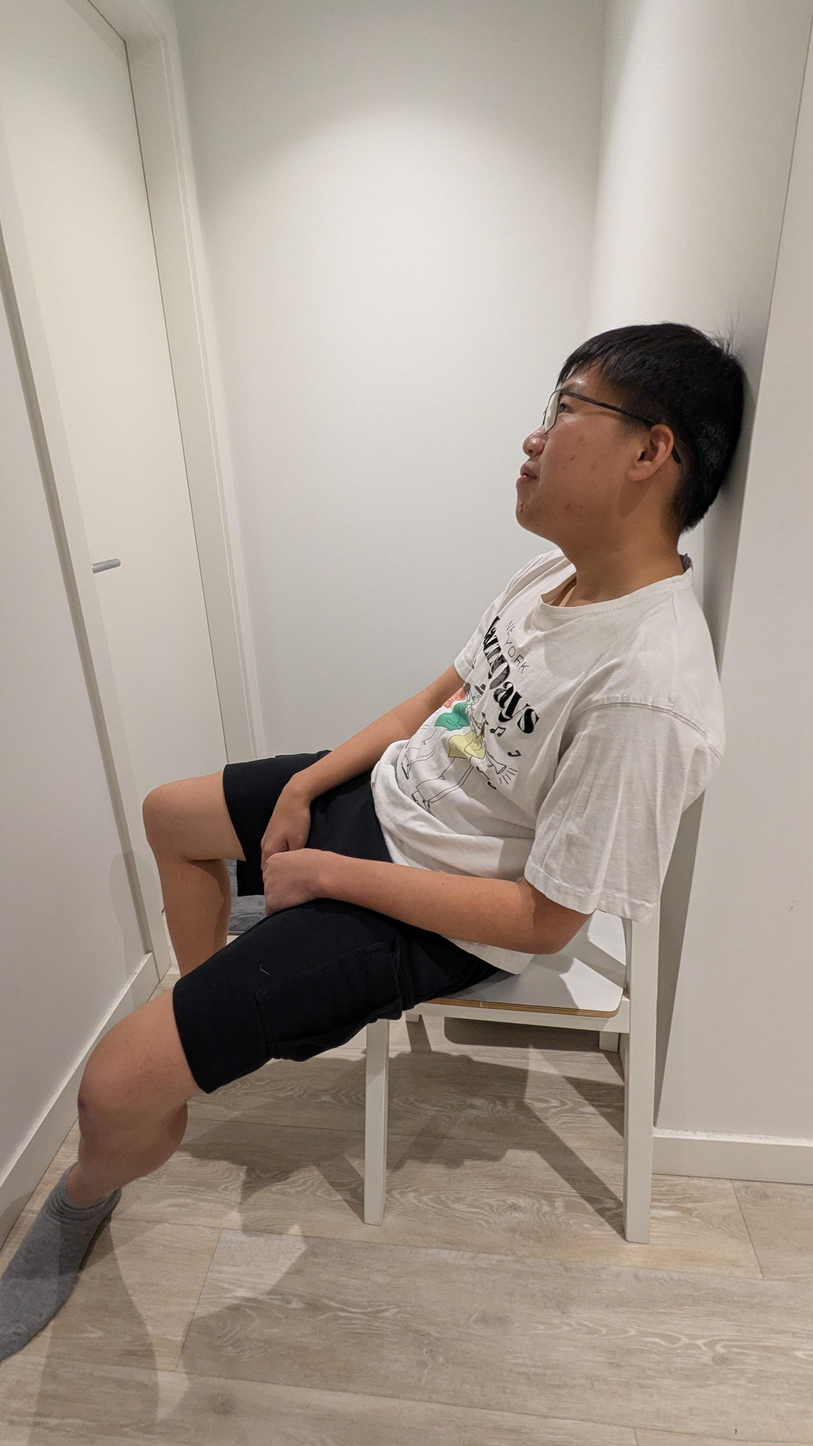BadPosture: (0, 324, 743, 1359)
